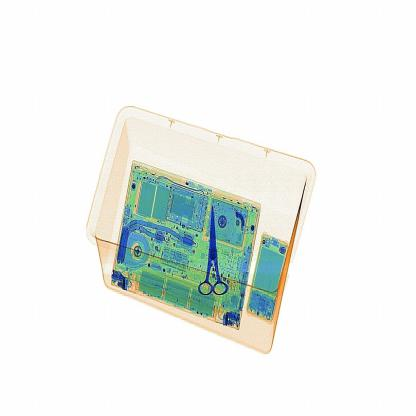gun: (190, 192, 235, 303)
